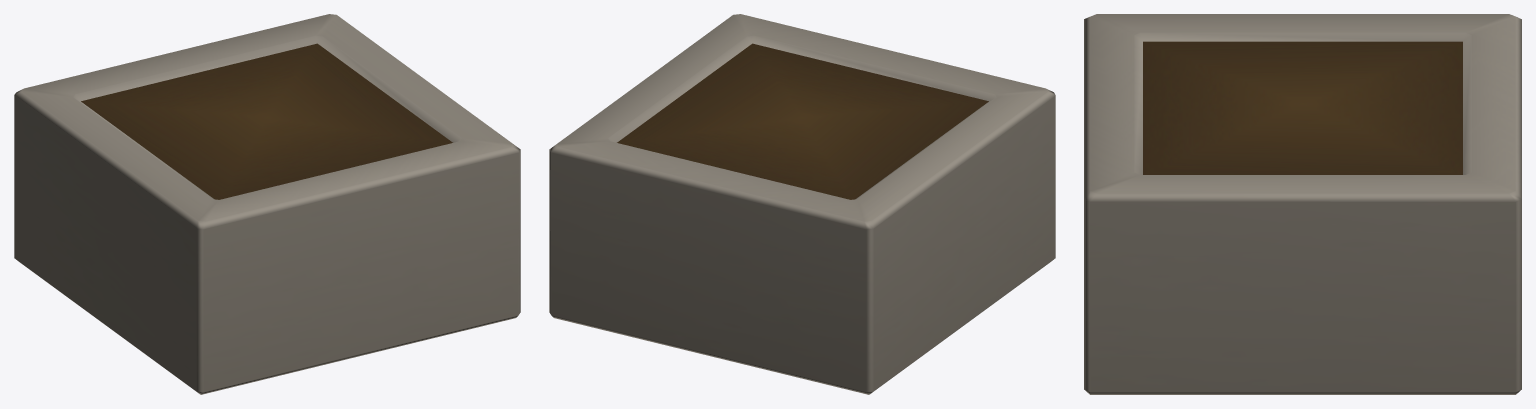
The model's file is plant_box_concrete_2x2x1.fbx.
3 views of the same model, side by side, from view 1: azimuth 30°, elevation 25°; view 2: azimuth 150°, elevation 25°; view 3: azimuth 270°, elevation 25° (orthographic). The views are drawn at different scales.
Parts seen in each view (by area): view 1: plant_box_concrete_2x2x1; view 2: plant_box_concrete_2x2x1; view 3: plant_box_concrete_2x2x1.
Part boxes in pixels (bbox=[...]): plant_box_concrete_2x2x1: bbox=[14, 14, 520, 394]; plant_box_concrete_2x2x1: bbox=[549, 14, 1055, 394]; plant_box_concrete_2x2x1: bbox=[1084, 14, 1521, 394].
Bounding box in the file's own units: 200 × 101 × 200.
